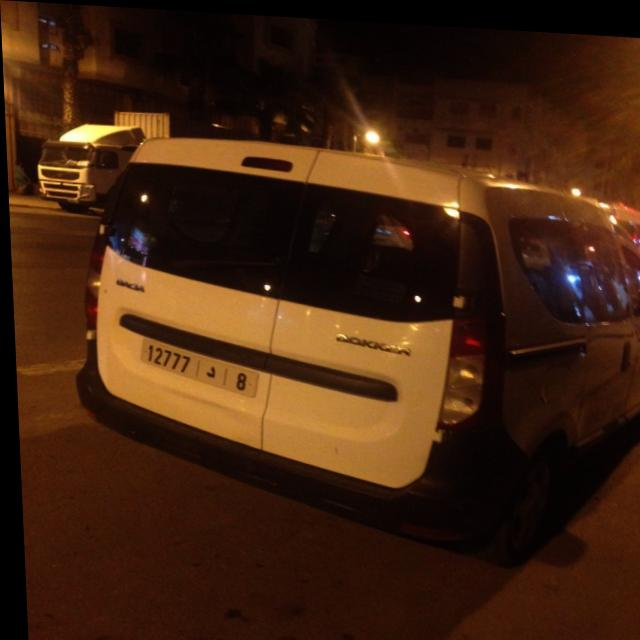License-Plate: (137, 338, 256, 394)
